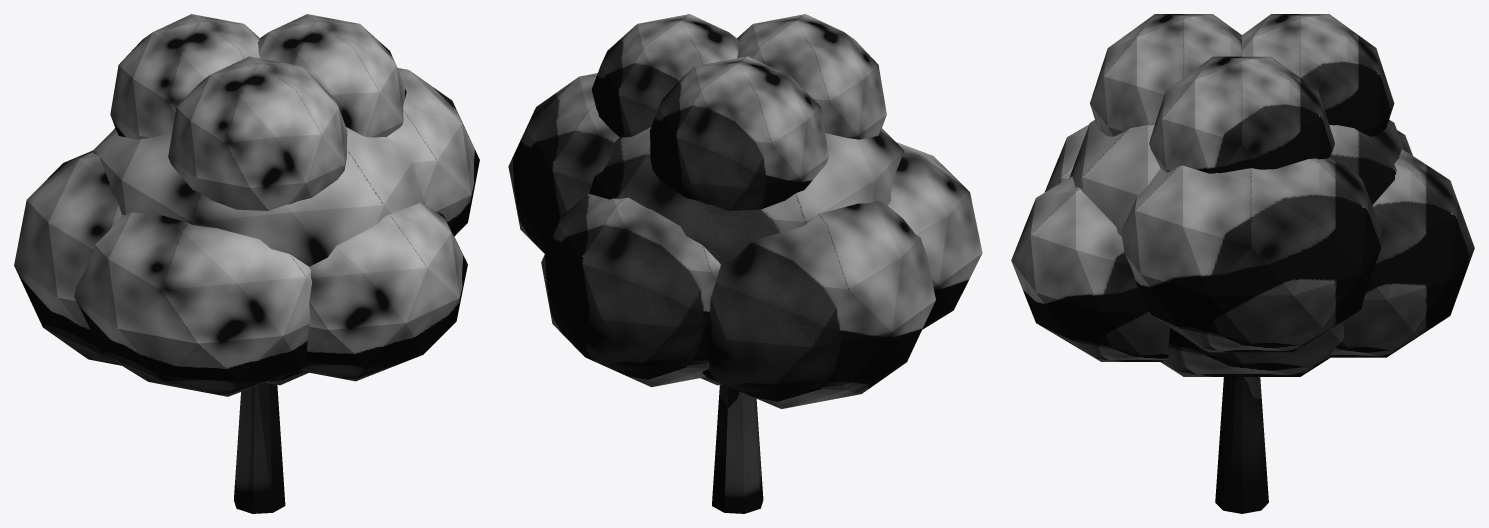
Rendered from tree_oak_medium.glb.
3 renders of one model, left to right at view 1: azimuth 30°, elevation 25°; view 2: azimuth 150°, elevation 25°; view 3: azimuth 270°, elevation 25°, orthographic.
Parts seen in each view (by area): view 1: tree_oak_medium; view 2: tree_oak_medium; view 3: tree_oak_medium.
Boxes of the visible parts, box(x1,y1,x2,y2) form: tree_oak_medium: box(14, 14, 479, 513); tree_oak_medium: box(508, 14, 982, 513); tree_oak_medium: box(1011, 14, 1474, 513).
Size of the model in its own units: 4.36 by 4.82 by 4.31.
1 material, 1 textured.
